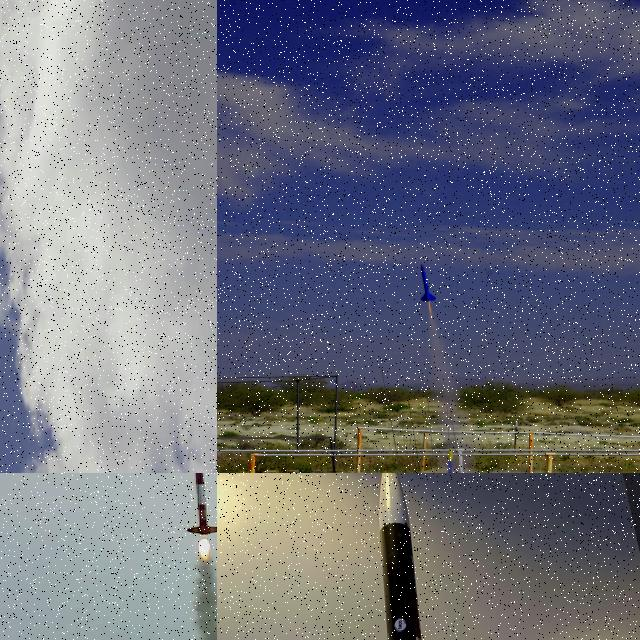Rocket: (379, 473, 422, 640), (185, 473, 217, 535), (420, 264, 437, 302), (443, 447, 457, 473)
